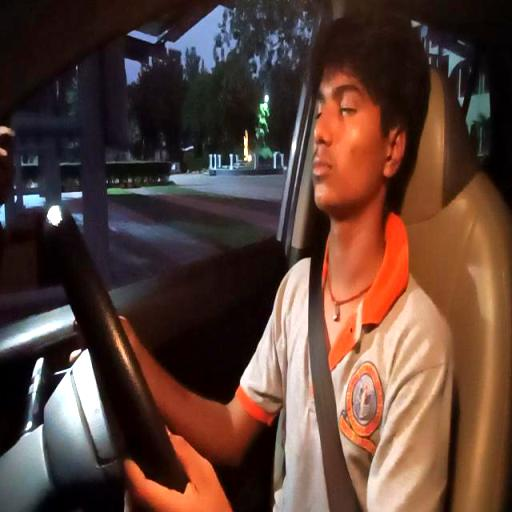sleepy: (305, 12, 418, 248)
